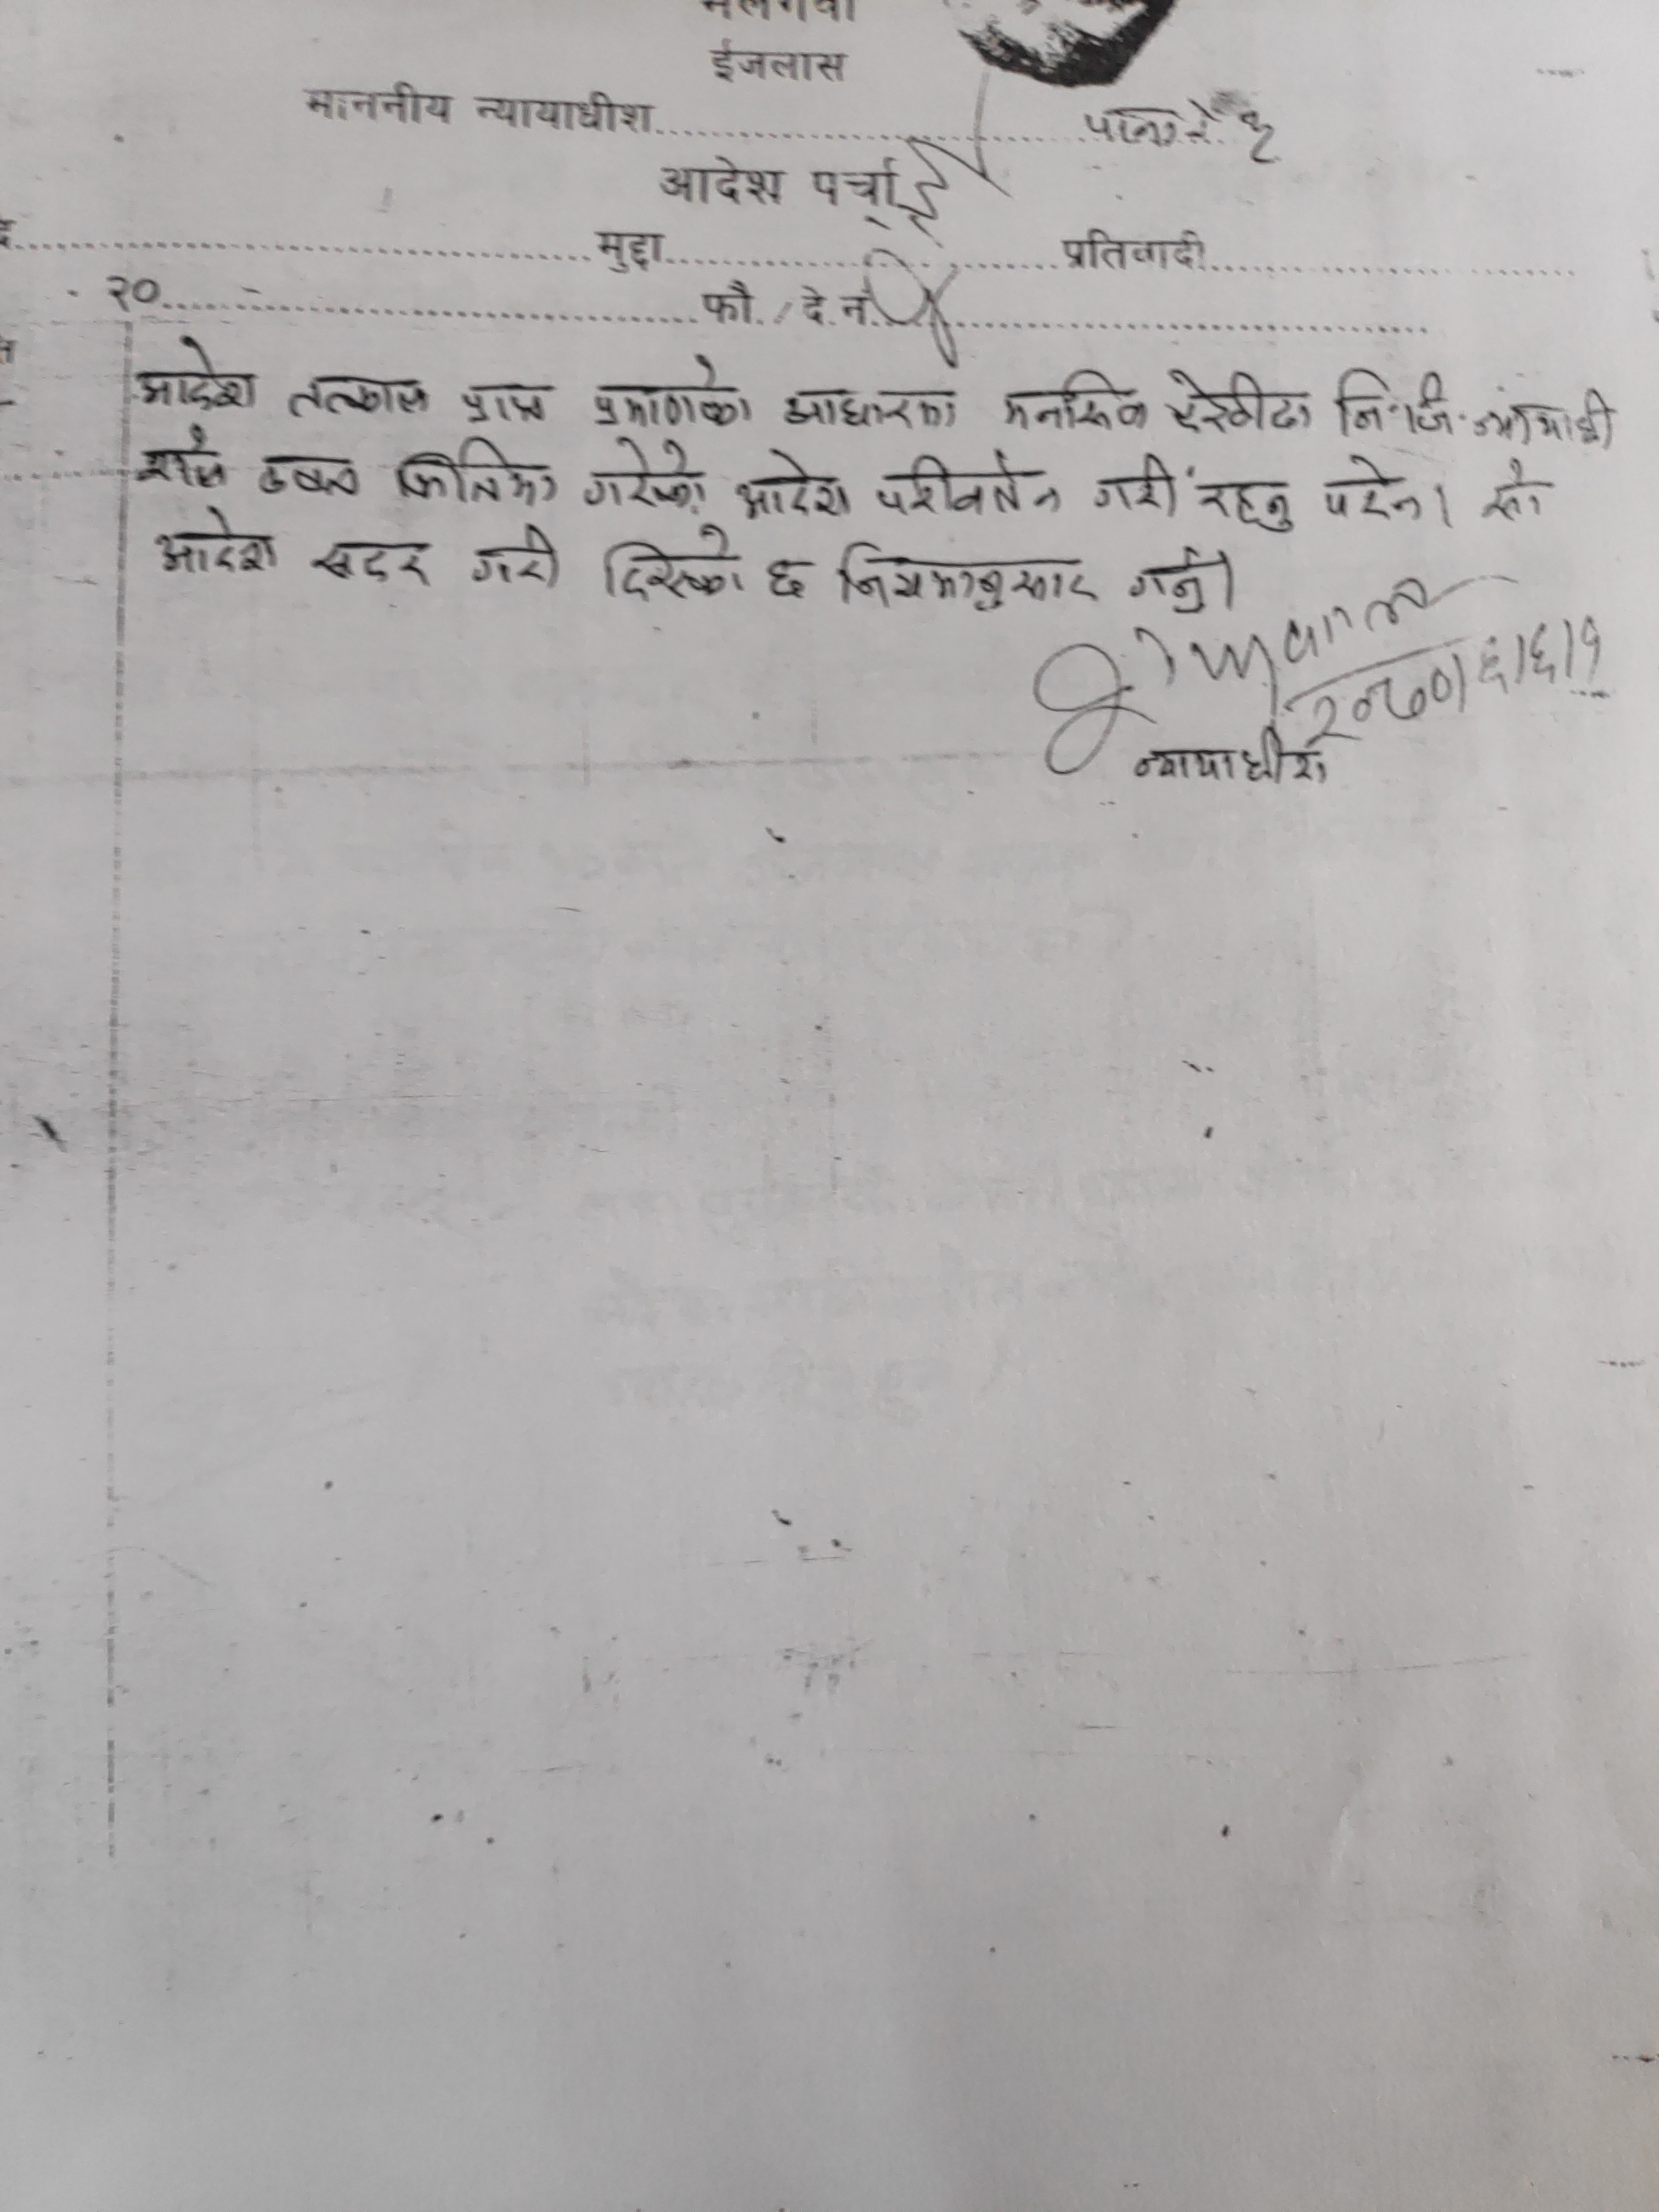text: (1328, 366, 1617, 453), (836, 538, 1108, 613), (586, 352, 762, 432), (871, 451, 1065, 523), (392, 428, 559, 510), (1134, 730, 1333, 798), (599, 528, 748, 610), (1164, 364, 1317, 441), (579, 435, 713, 519), (999, 368, 1154, 439), (131, 334, 263, 418), (779, 381, 965, 441), (734, 446, 861, 528), (150, 505, 282, 580), (284, 366, 439, 420), (1321, 451, 1429, 528), (127, 421, 234, 496), (307, 533, 436, 592), (251, 451, 366, 512), (1127, 543, 1222, 617), (465, 523, 566, 590), (1195, 475, 1300, 536), (457, 373, 561, 432), (1091, 453, 1183, 519), (760, 550, 816, 599)
